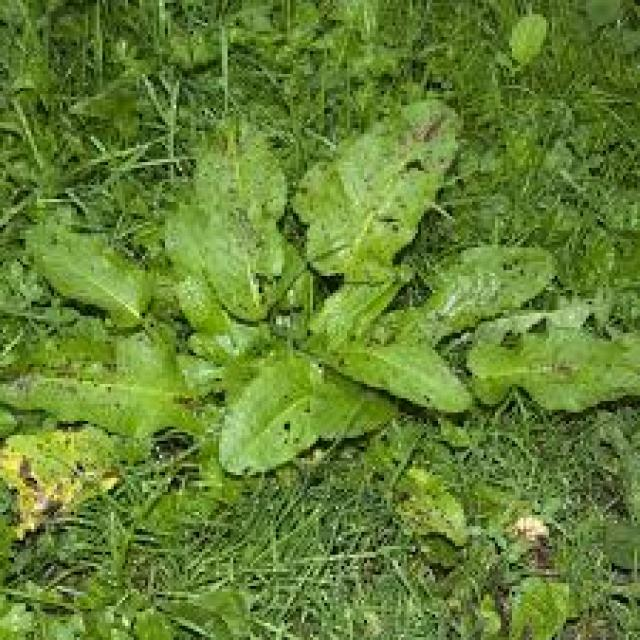organic waste: (0, 122, 640, 495)
